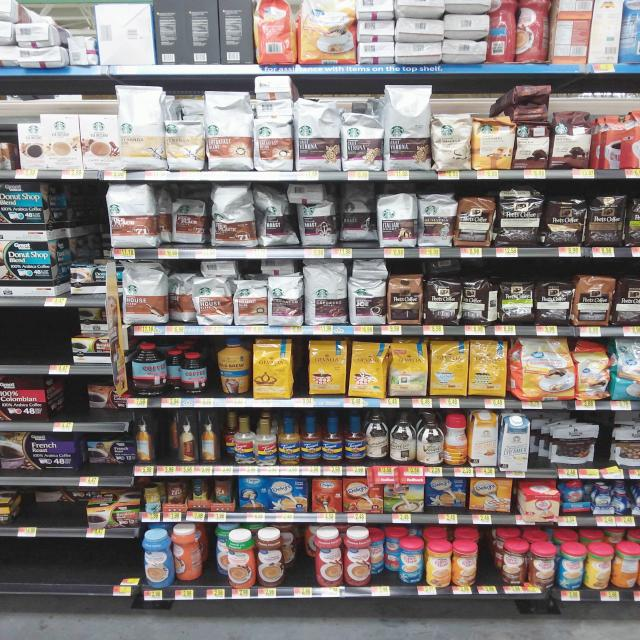empty_space: (5, 545, 121, 587), (7, 314, 69, 356)
